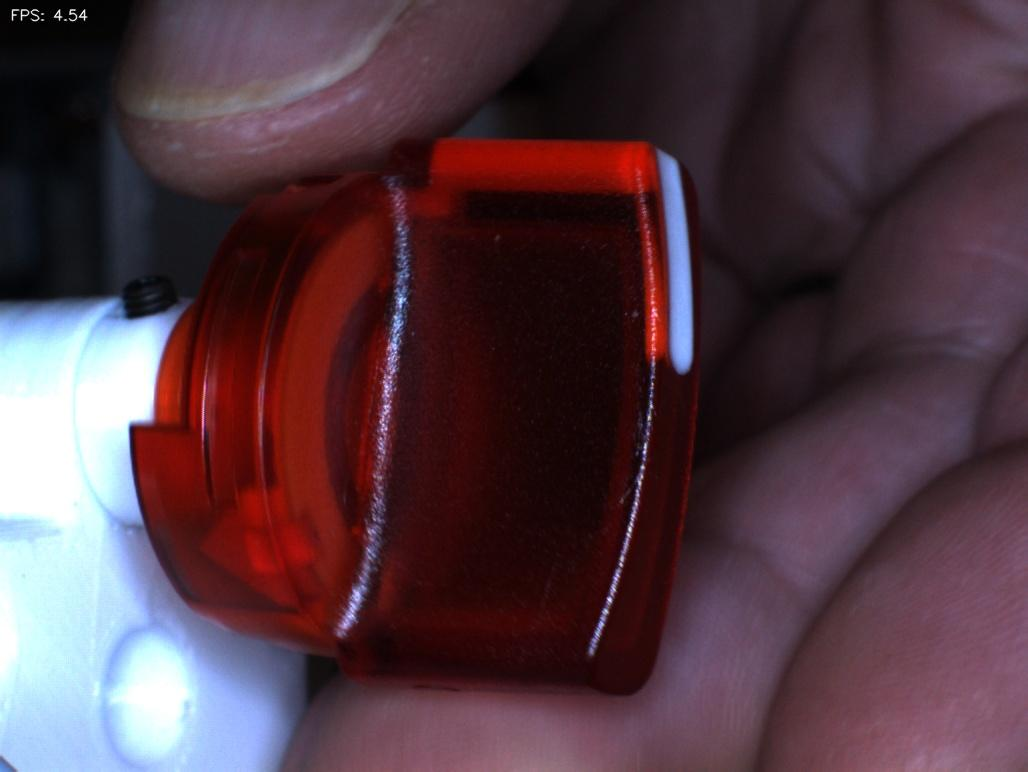Givrage: (498, 535, 586, 672), (599, 371, 668, 516)
